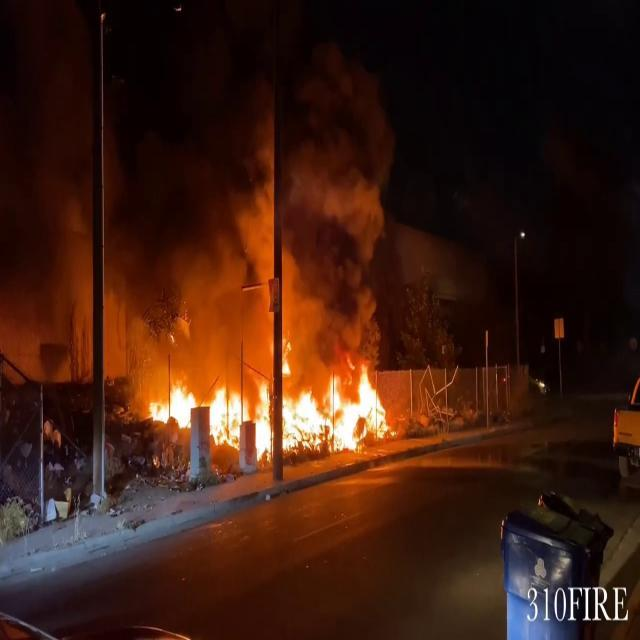Fire: (143, 352, 394, 460)
Smoke: (1, 21, 397, 359)
